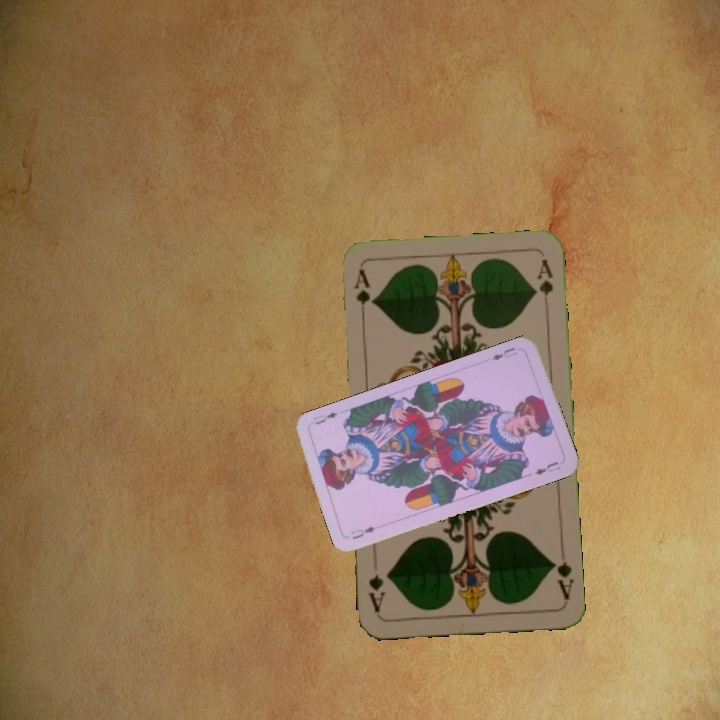EU: (346, 522, 378, 542), (488, 343, 519, 363)
GA: (350, 265, 373, 324), (547, 556, 575, 603)
